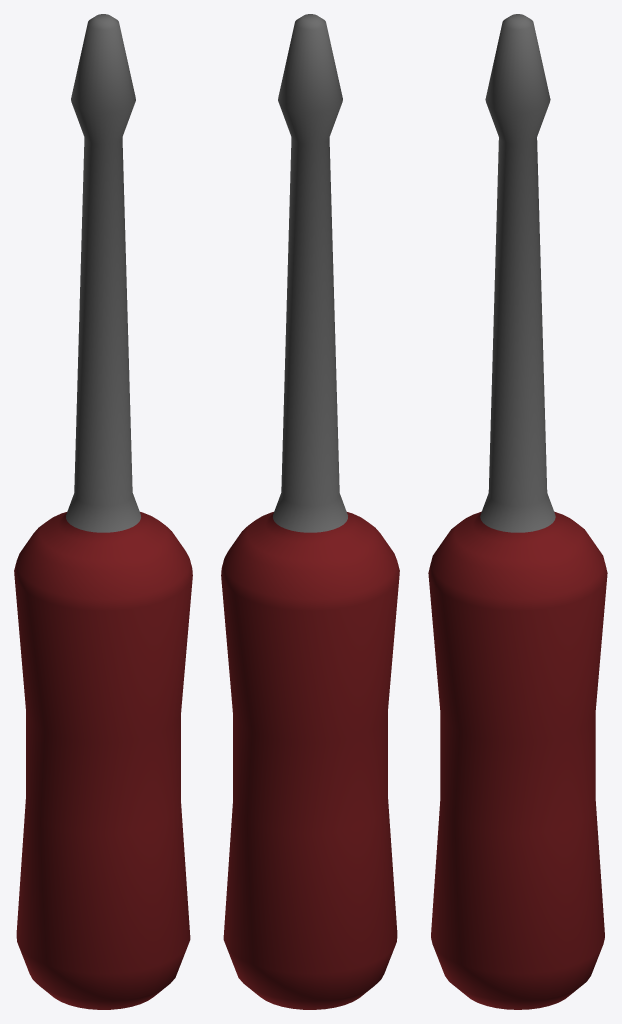
Rendered from srubokret.fbx.
3 renders of one model, left to right at view 1: azimuth 30°, elevation 25°; view 2: azimuth 150°, elevation 25°; view 3: azimuth 270°, elevation 25°, orthographic.
Parts seen in each view (by area): view 1: Cylinder; view 2: Cylinder; view 3: Cylinder.
Boxes of the visible parts, <box> form: Cylinder: <box>14,14,192,1009</box>; Cylinder: <box>221,14,399,1009</box>; Cylinder: <box>428,14,607,1009</box>.
Size of the model in its own units: 5.83 by 35.06 by 5.83.
